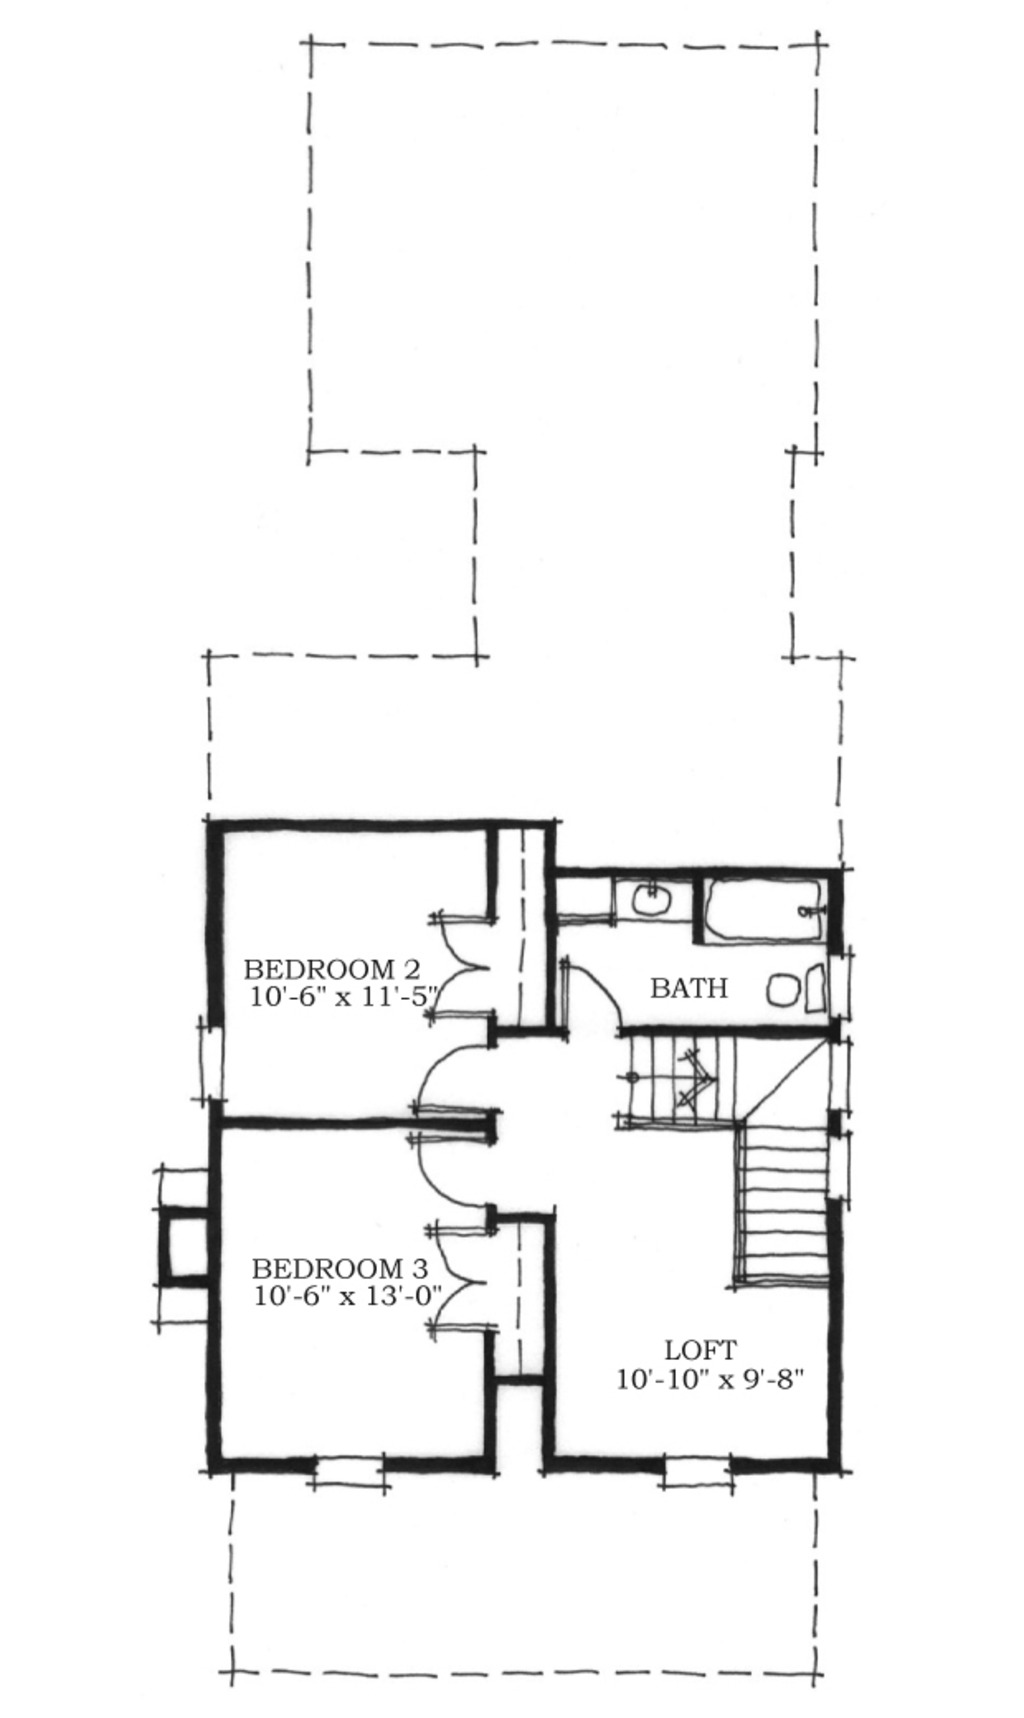door: (427, 1217, 510, 1342), (427, 911, 490, 1021), (552, 956, 631, 1042), (404, 1132, 485, 1207), (416, 1041, 490, 1121)
stairs: (612, 1033, 834, 1284)
